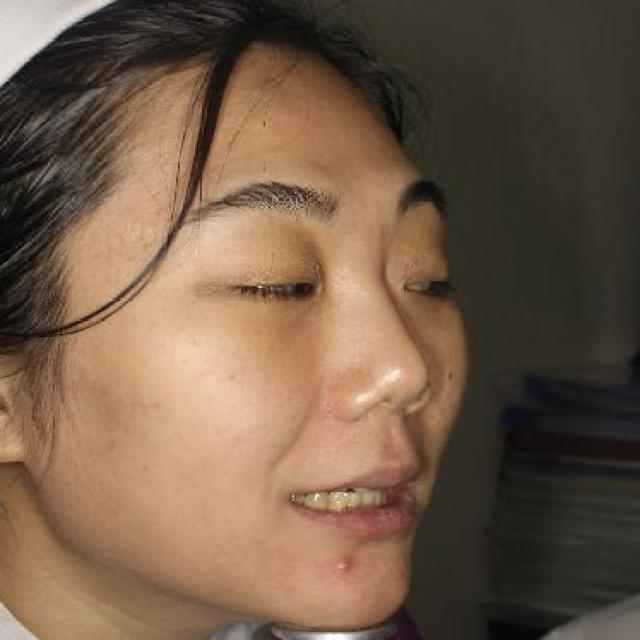papules: (328, 554, 362, 583)
